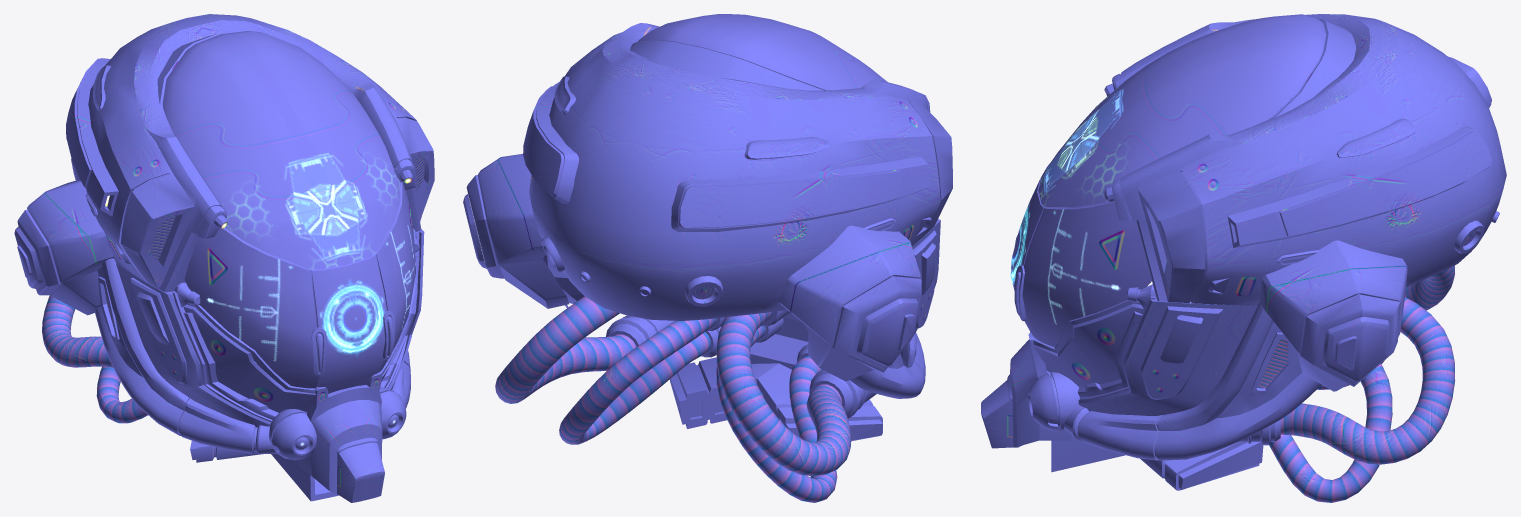
File: tester.glb
The picture shows the model from 3 angles, left to right: view 1: azimuth 30°, elevation 25°; view 2: azimuth 150°, elevation 25°; view 3: azimuth 270°, elevation 25°; orthographic projection. The views are drawn at different scales.
Parts seen in each view (by area): view 1: node_damagedHelmet_-6514.001; view 2: node_damagedHelmet_-6514.001; view 3: node_damagedHelmet_-6514.001.
Part boxes in pixels (x1,y1,x2,y2): node_damagedHelmet_-6514.001: [14, 14, 434, 502]; node_damagedHelmet_-6514.001: [463, 14, 952, 502]; node_damagedHelmet_-6514.001: [981, 14, 1506, 502].
Size of the model in its own units: 1.89 by 1.8 by 2.
1 material, 1 textured.
